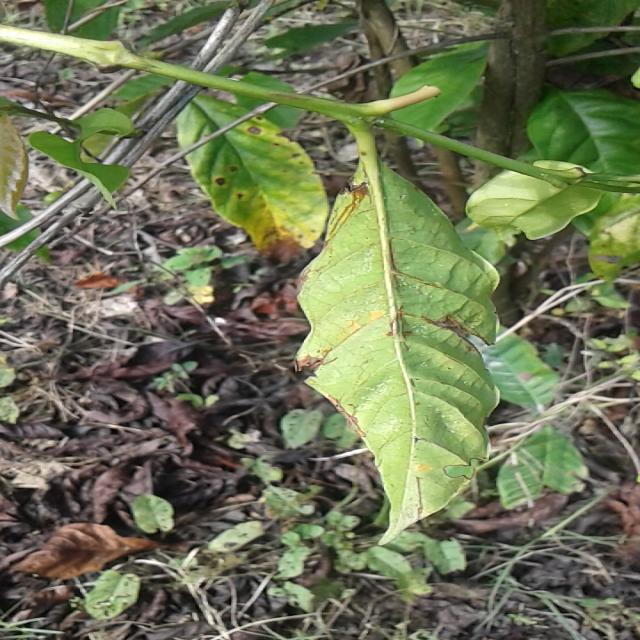Enfermedad-Roya: (296, 160, 505, 546)
